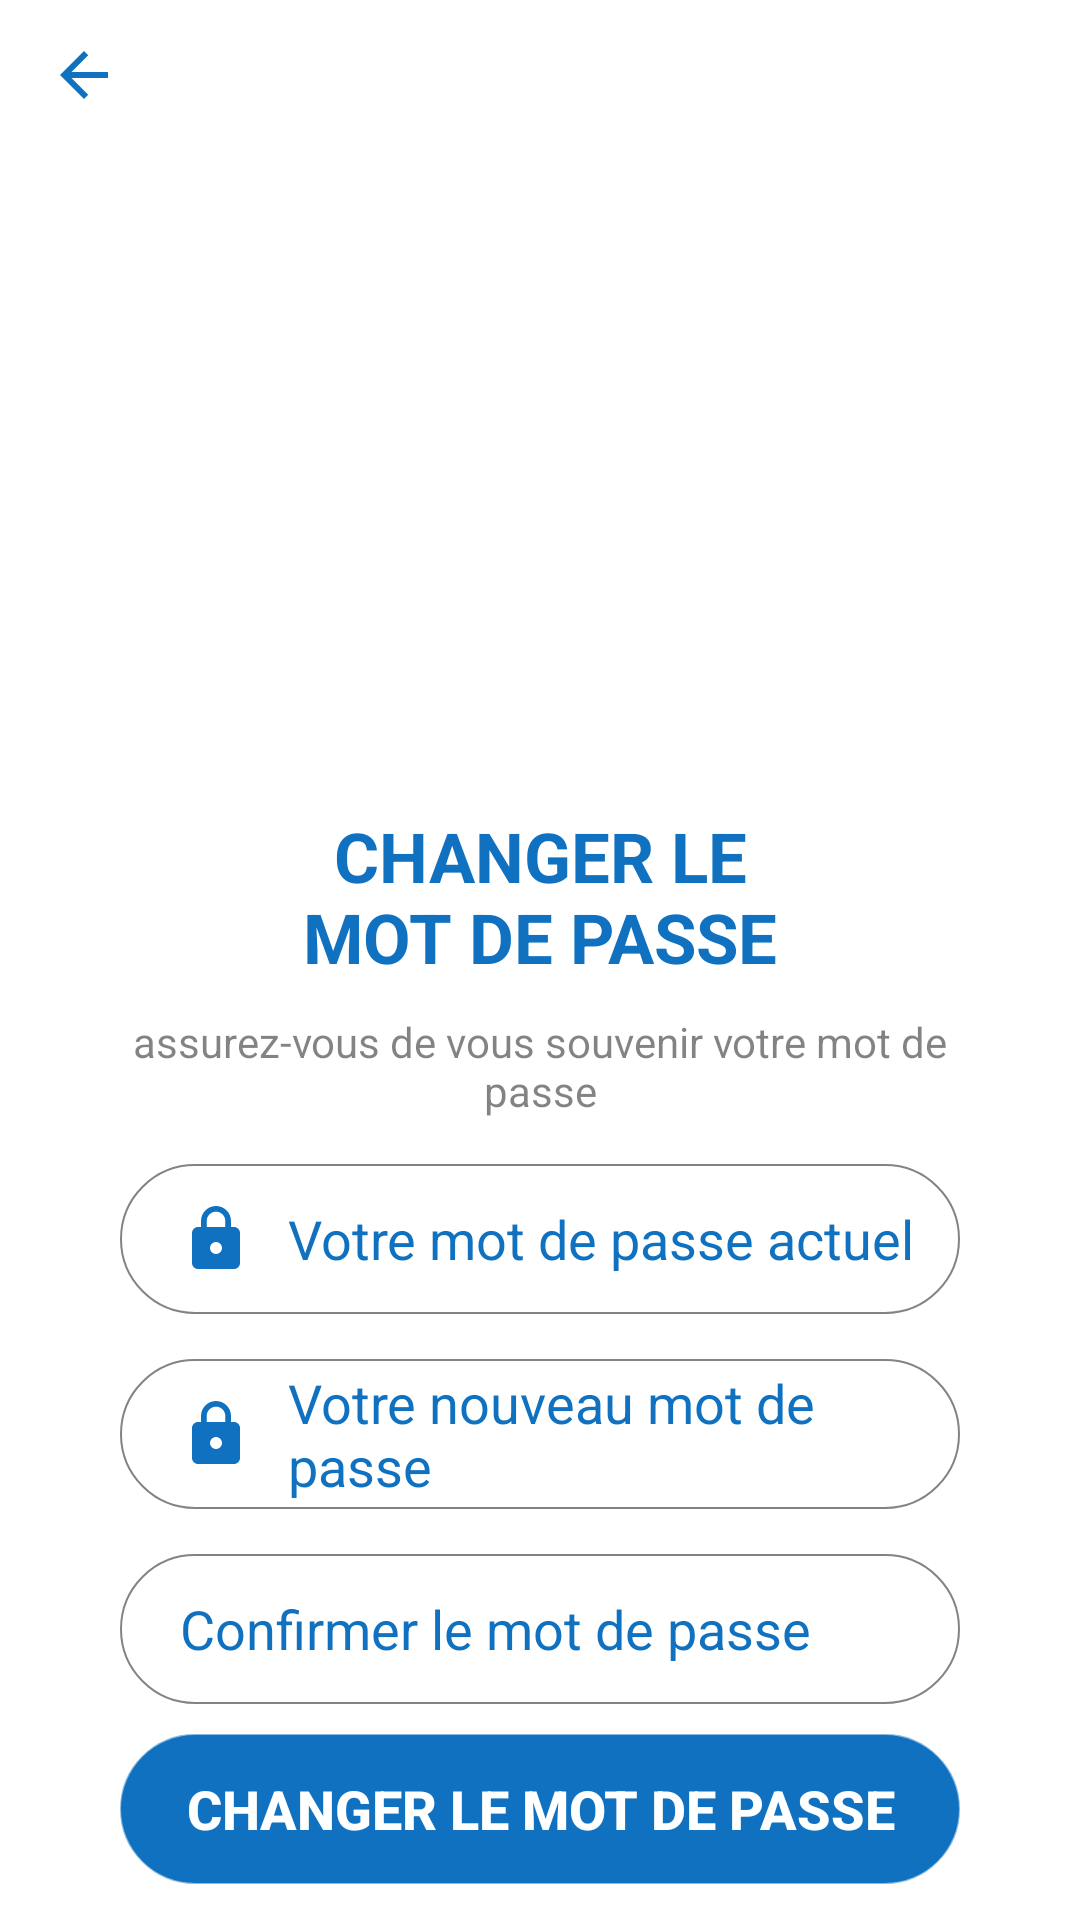

Icons on this 1080 × 1920 Android screen, each with the point to tap as (x,y):
arrow back: (84,75)
